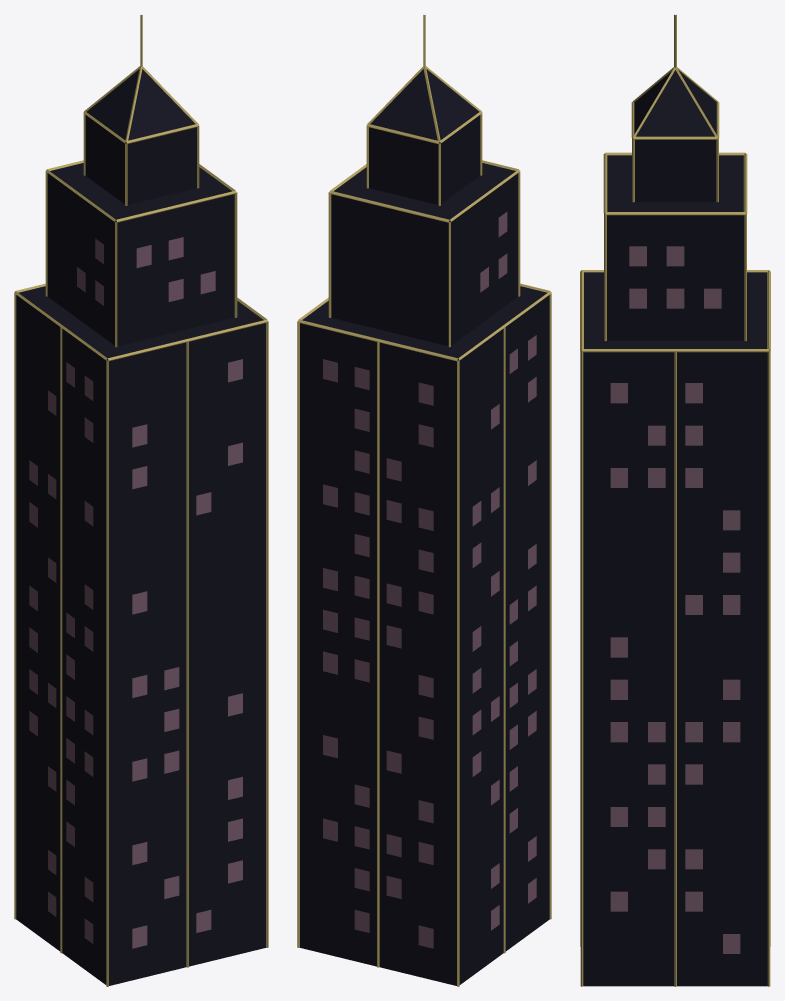
File: tower_c.glb
The picture shows the model from 3 angles, left to right: view 1: azimuth 30°, elevation 25°; view 2: azimuth 150°, elevation 25°; view 3: azimuth 270°, elevation 25°; orthographic projection.
Visible parts, largest first — view 1: root; view 2: root; view 3: root.
Part boxes in pixels (x1,y1,x2,y2): root: [14, 15, 268, 986]; root: [297, 15, 551, 986]; root: [580, 14, 770, 986].
Size of the model in its own units: 16.32 by 88 by 16.32.
